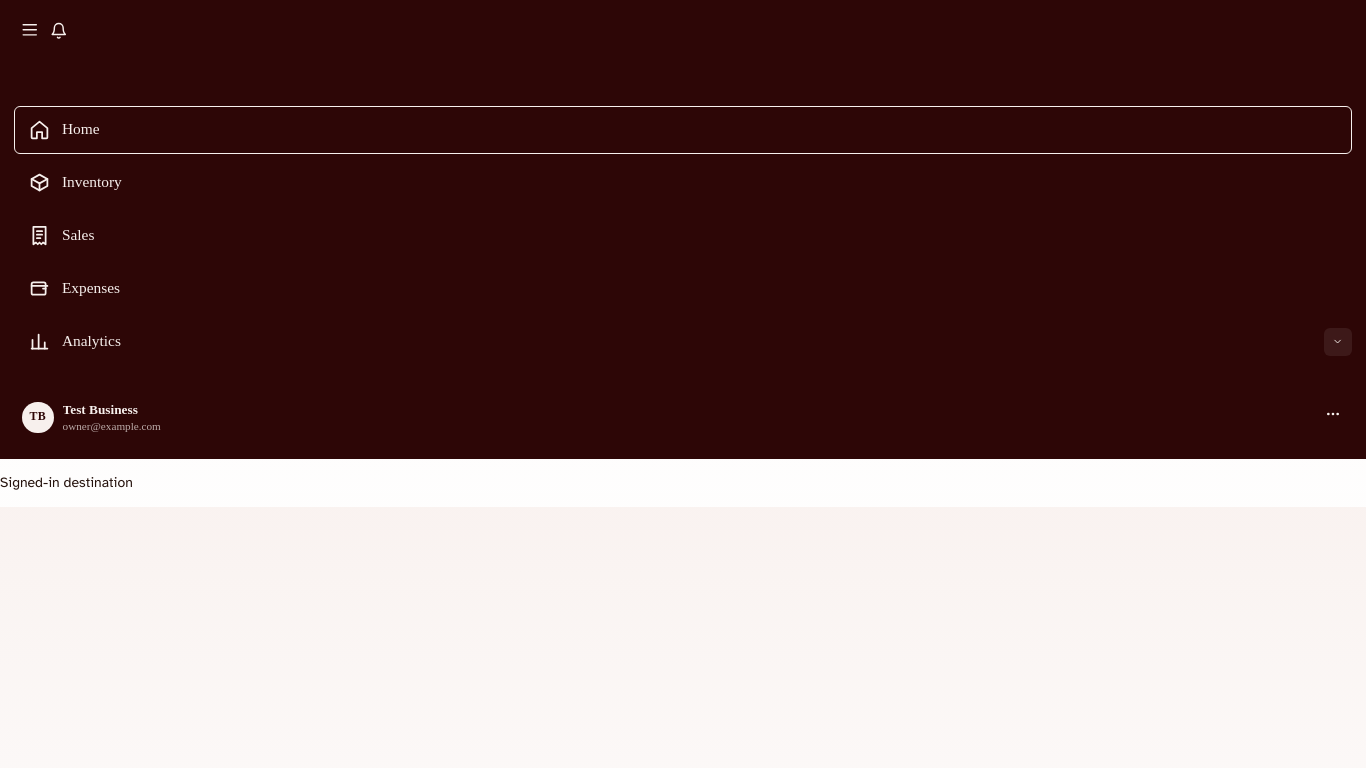
Test case: logout › logs out and navigates to login
Note: Log out is in the account menu, opened from the business's pill in the sidebar.
What coordinates should you click on to do the following:
click the button with aria-label "Account menu for Test Business"
I would click on:
 (38, 417)
Its box is [14,394,1352,441].
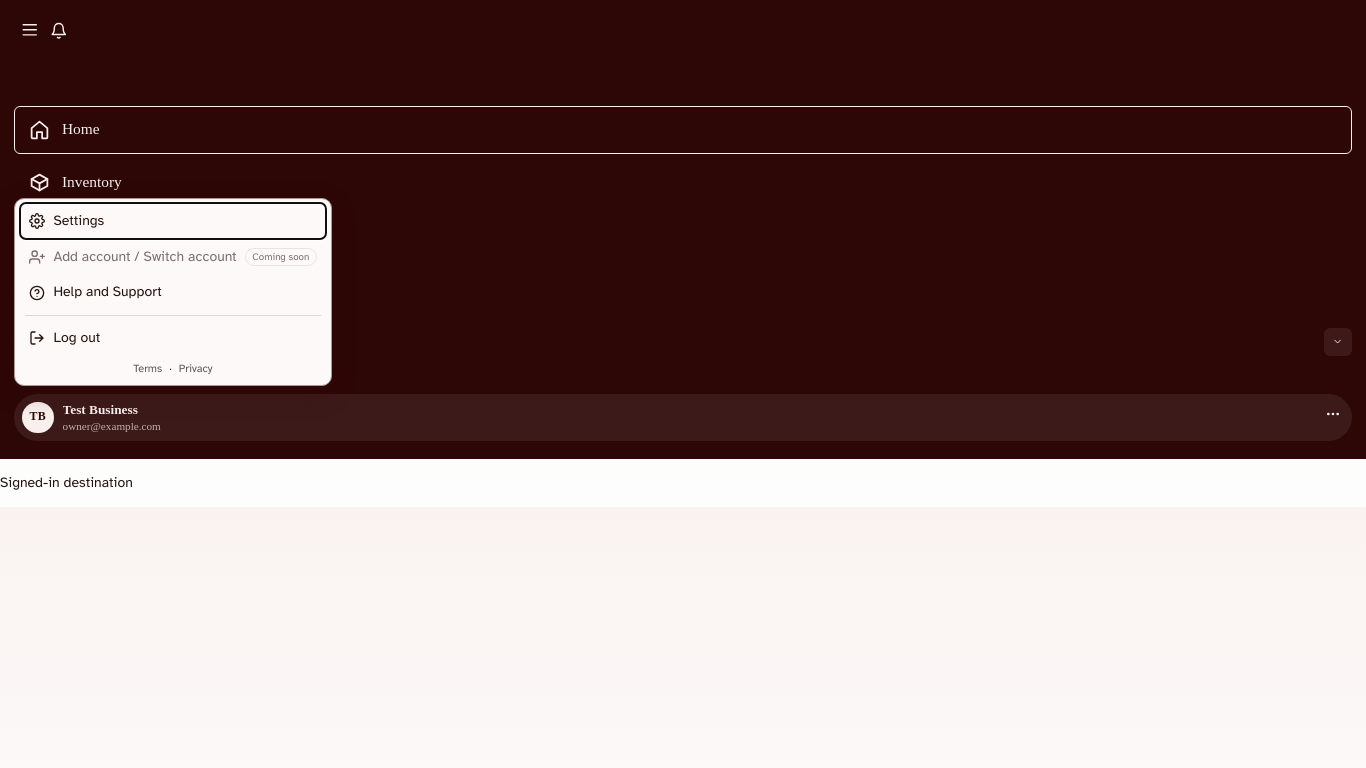
What coordinates should you click on to do the following:
click the menu item "Log out"
I would click on:
 (77, 337)
Its box is [20,320,326,356].
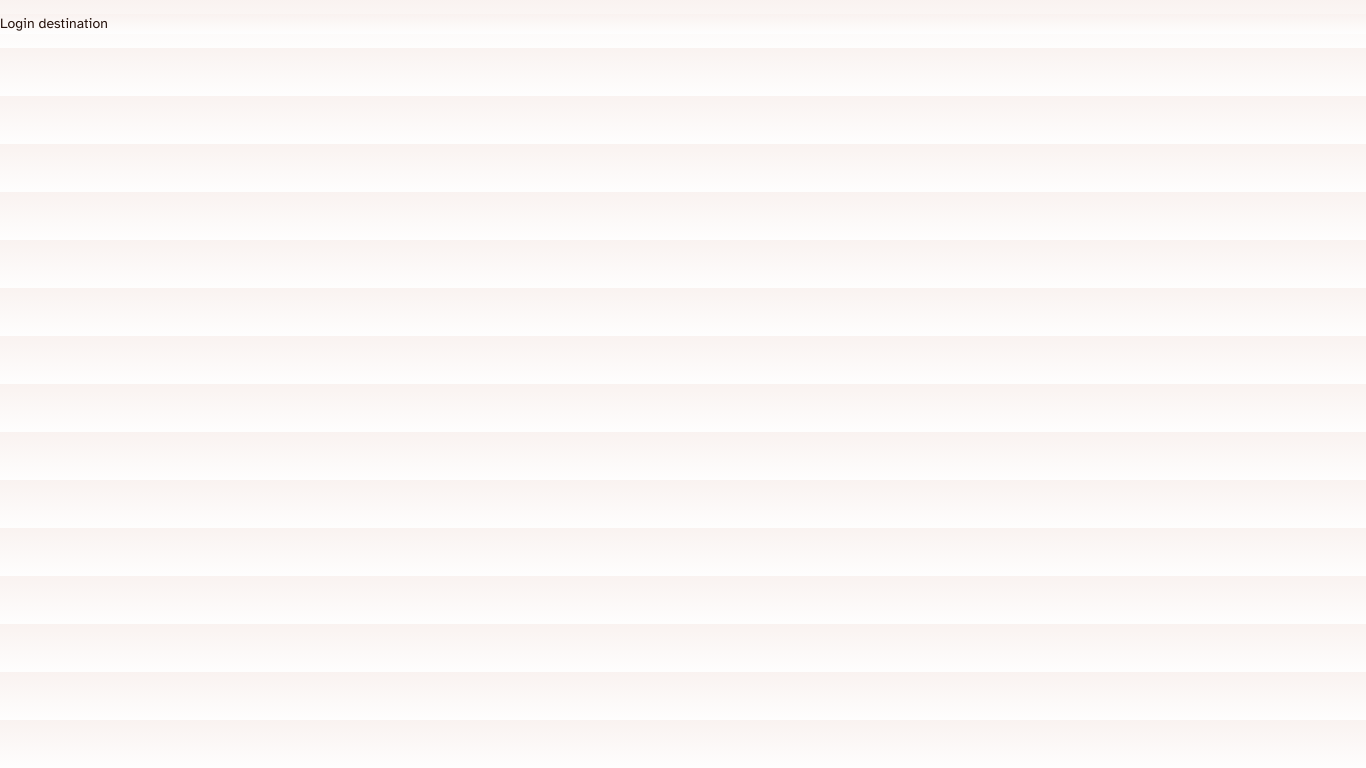
Check: the text "Login destination" is shown, box [0,15,108,32]
